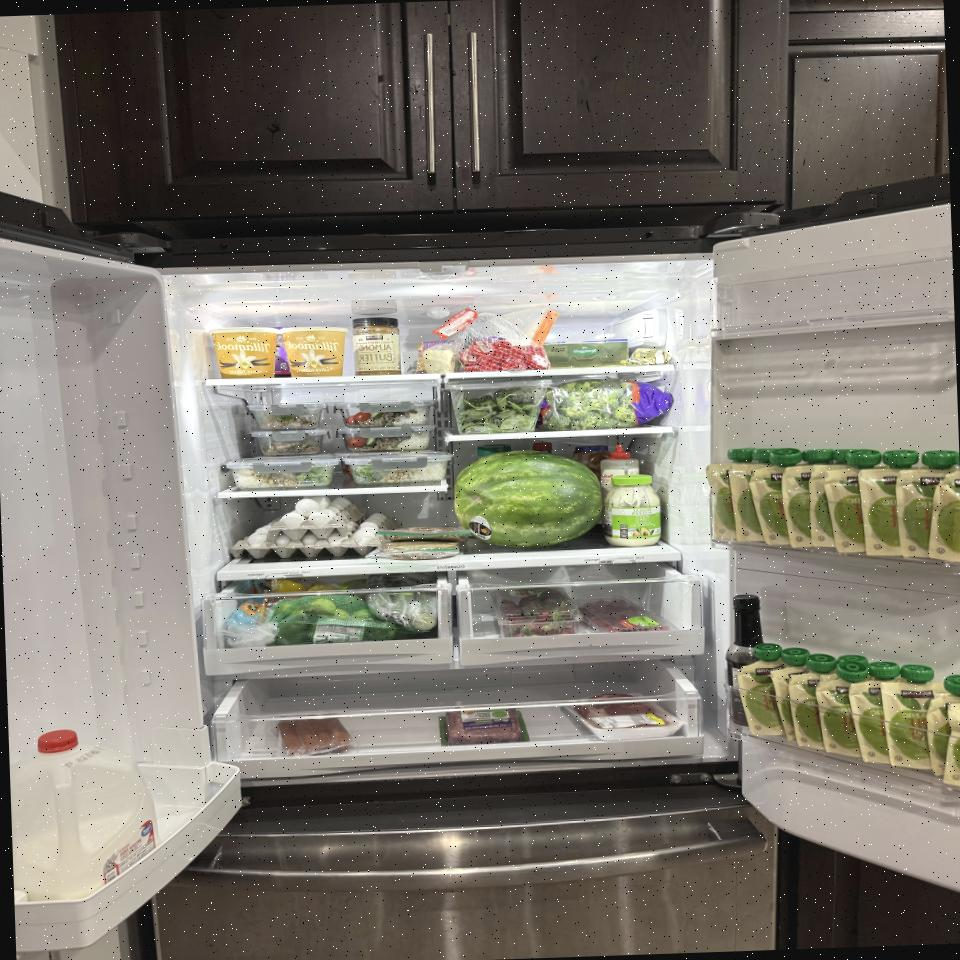Huevos: (228, 494, 396, 562)
Leche: (11, 724, 163, 903)
Mantequilla: (543, 338, 630, 370), (625, 348, 674, 367)
Yogur: (209, 326, 280, 380), (279, 324, 349, 377)
